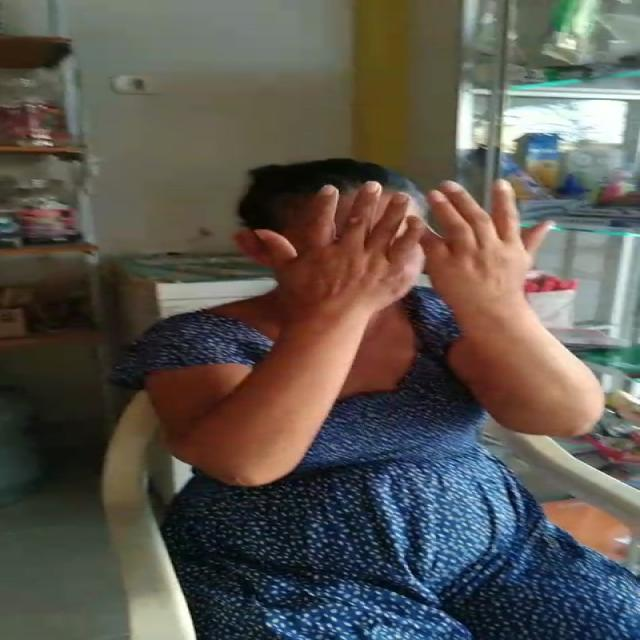7_mano_rostro: (249, 180, 497, 379)
